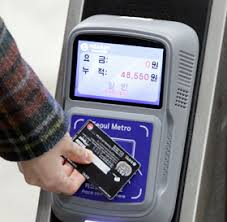terminal: (50, 15, 197, 222)
